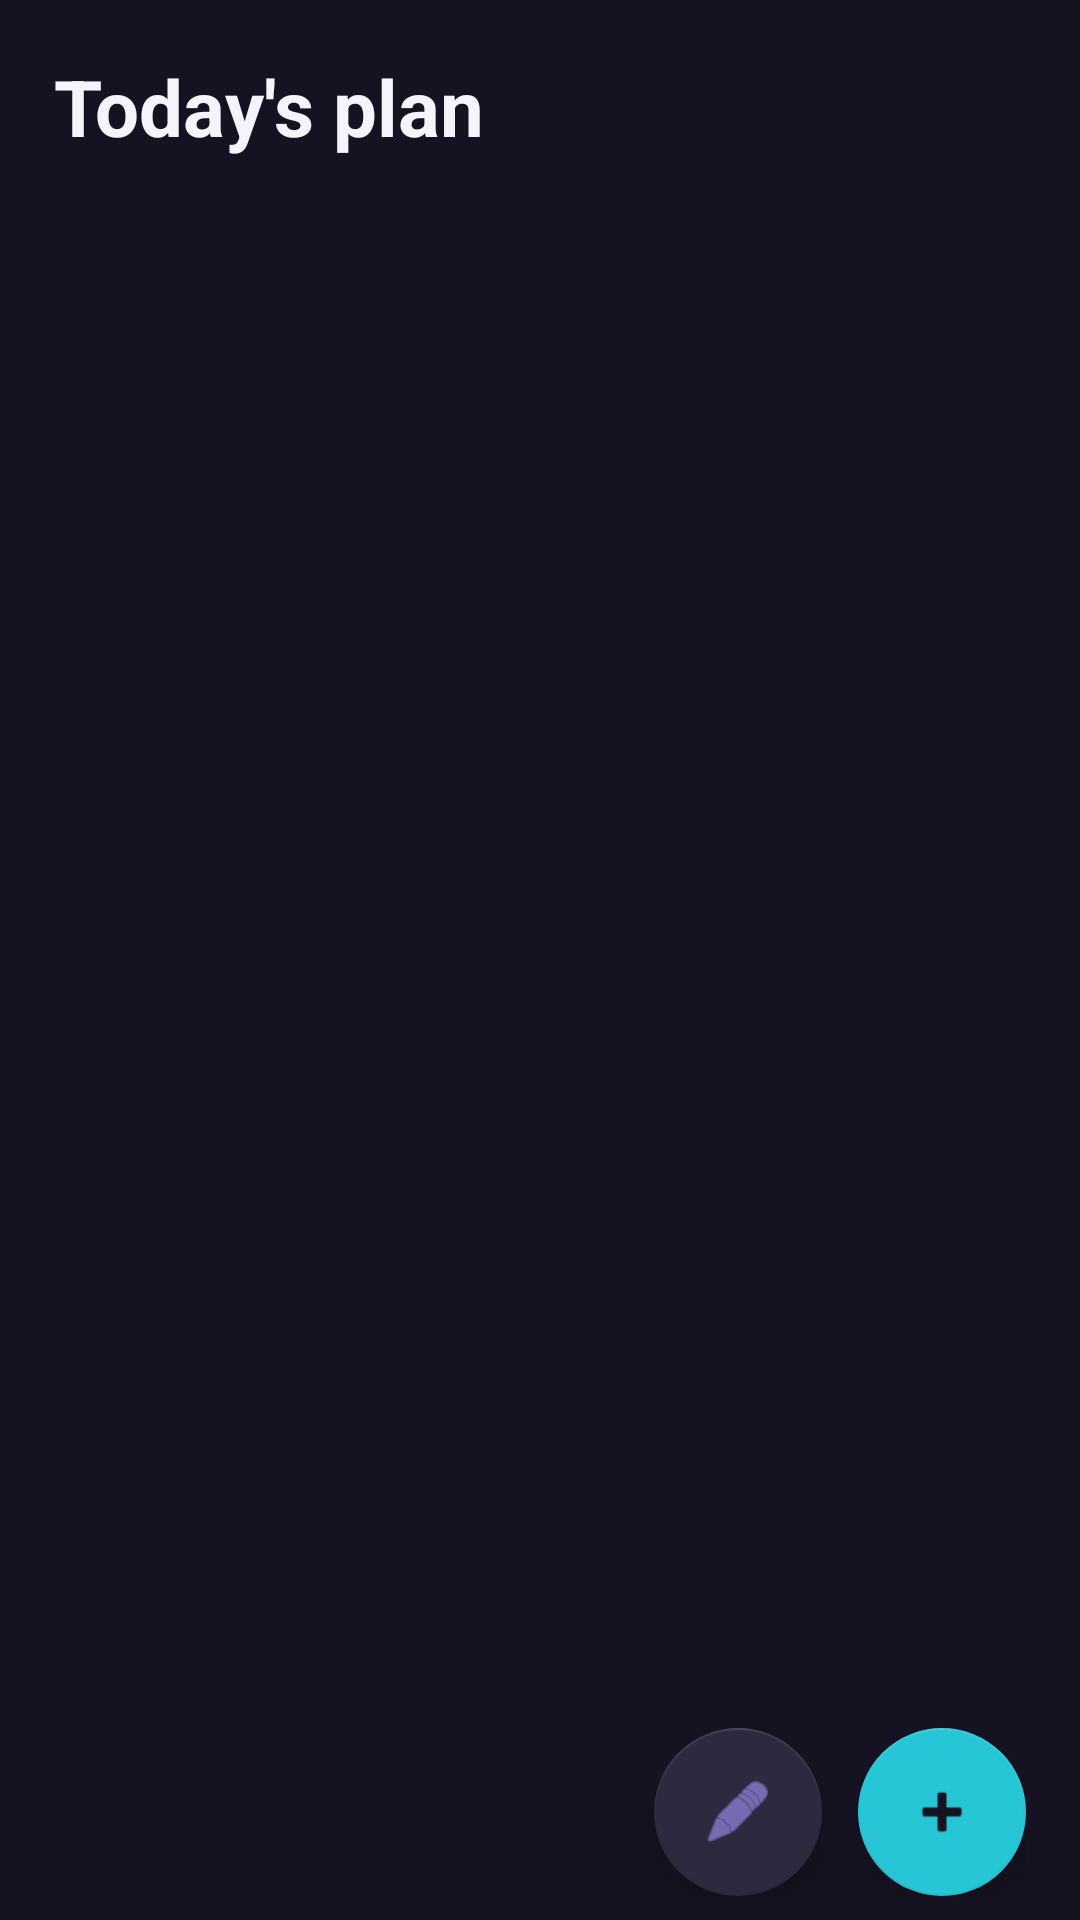

Icon click points for this 1080x1920 phone screenshot, format [x,y]:
Create schedule: [942,1812]
